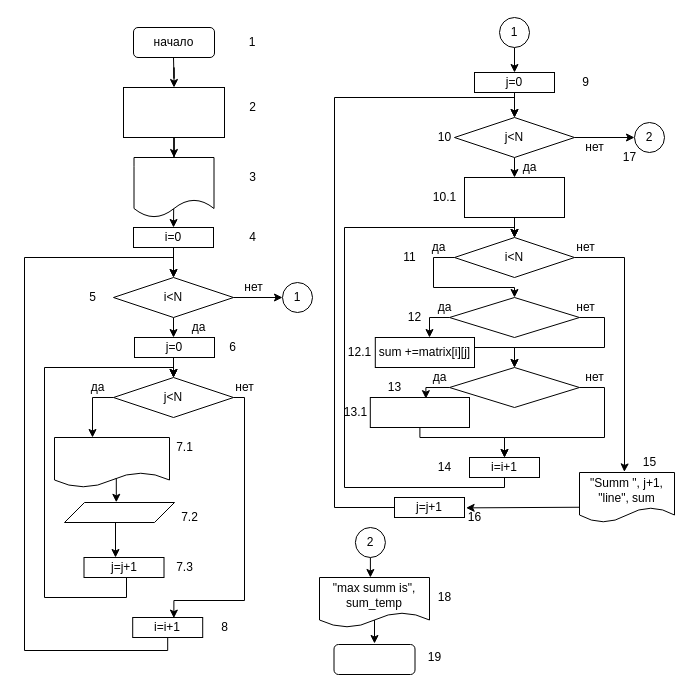
The diagram is 692 pixels wide and 692 high, and some of its shapes have lost their labels. Here are the shapes that lost their labels. From the top down, the centre of each, then its label:
point 173,112: N = 4 sum_temp = 0
point 173,187: "Matrix: "
point 514,197: i=0, sum = 0
point 514,317: matrix[i][j]%2 == 0
point 514,387: sum > sum_temp
point 419,412: sum_temp = sum
point 112,462: "element", i+1, j+1
point 119,512: matrix[i][j]
point 374,659: конец
